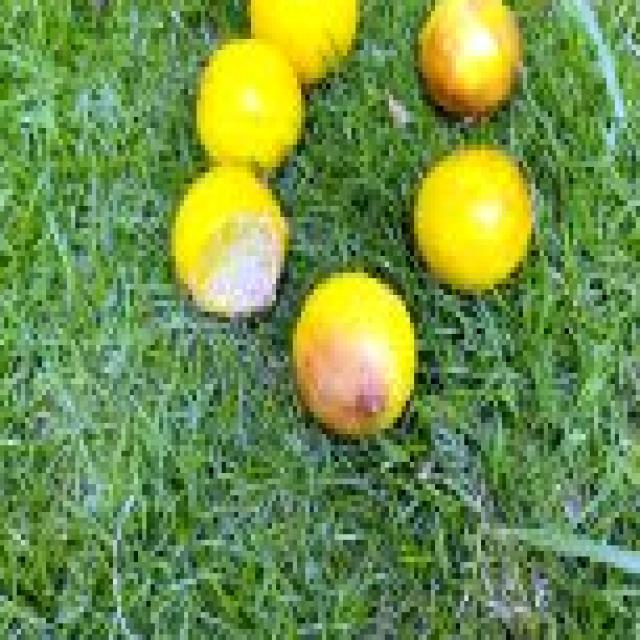Bad_Lime-0-1-day: (297, 273, 418, 440), (172, 167, 289, 317), (418, 0, 523, 122)
Good_Lime-10-21-days: (197, 0, 360, 167), (410, 145, 535, 295)
